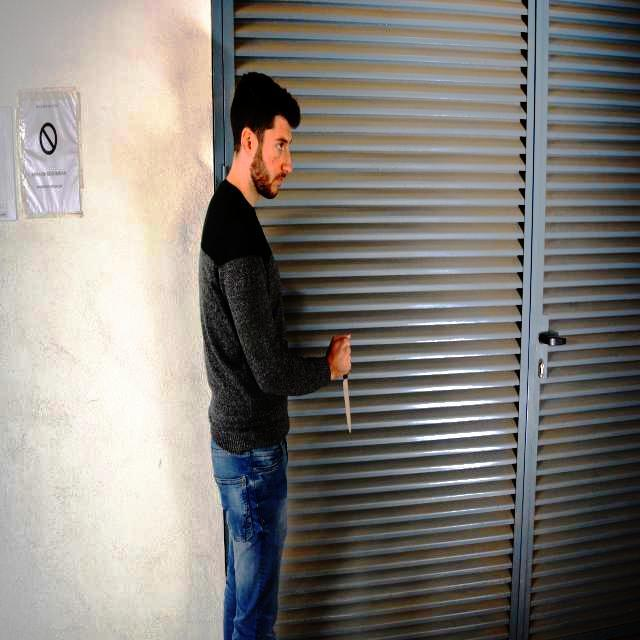Knife: (337, 376, 369, 435)
